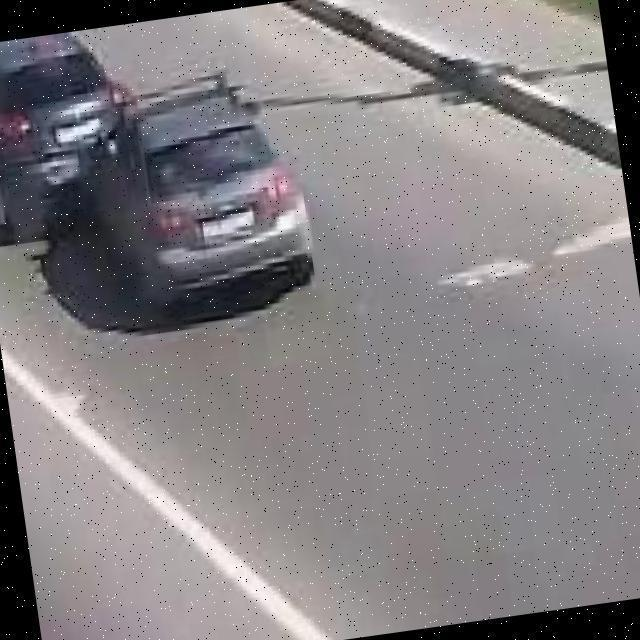accident: (0, 2, 323, 339)
